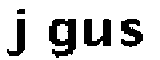g: (43, 14, 78, 59)
j: (6, 6, 30, 60)
s: (117, 21, 145, 51)
u: (84, 16, 115, 50)
